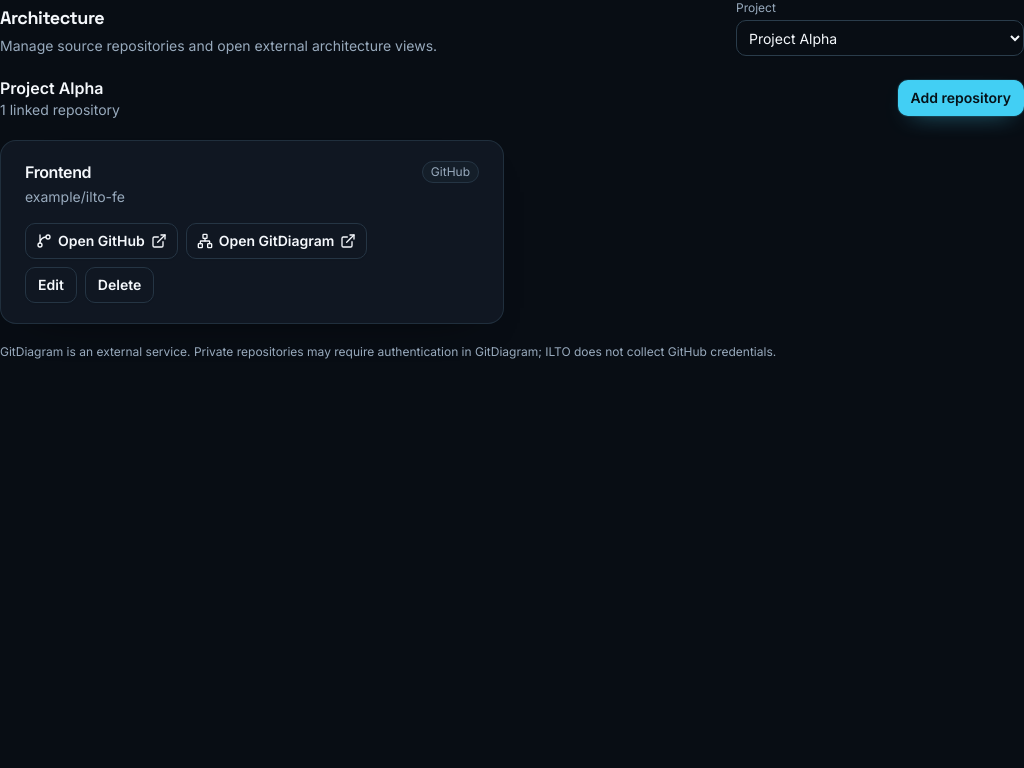
Test: Projects Architecture with a mocked backend › PATCHes only changed writable fields and refetches after confirmation
Expected: the text "example/ilto-fe" is shown, [25,188,125,205]
Step 1. Click the button with aria-label "Edit repository: Frontend" → (51, 285), box [25,267,77,303]
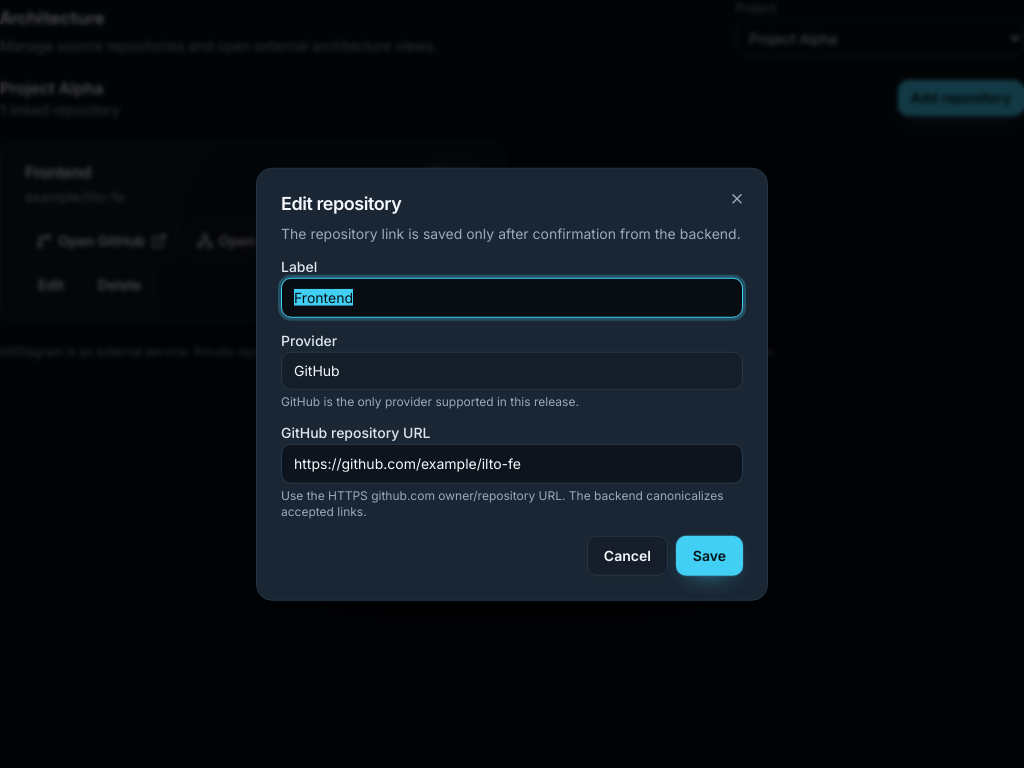
Step 2. Type "Web application" into the field labelled "Label" → (512, 297), box [281,277,743,317]
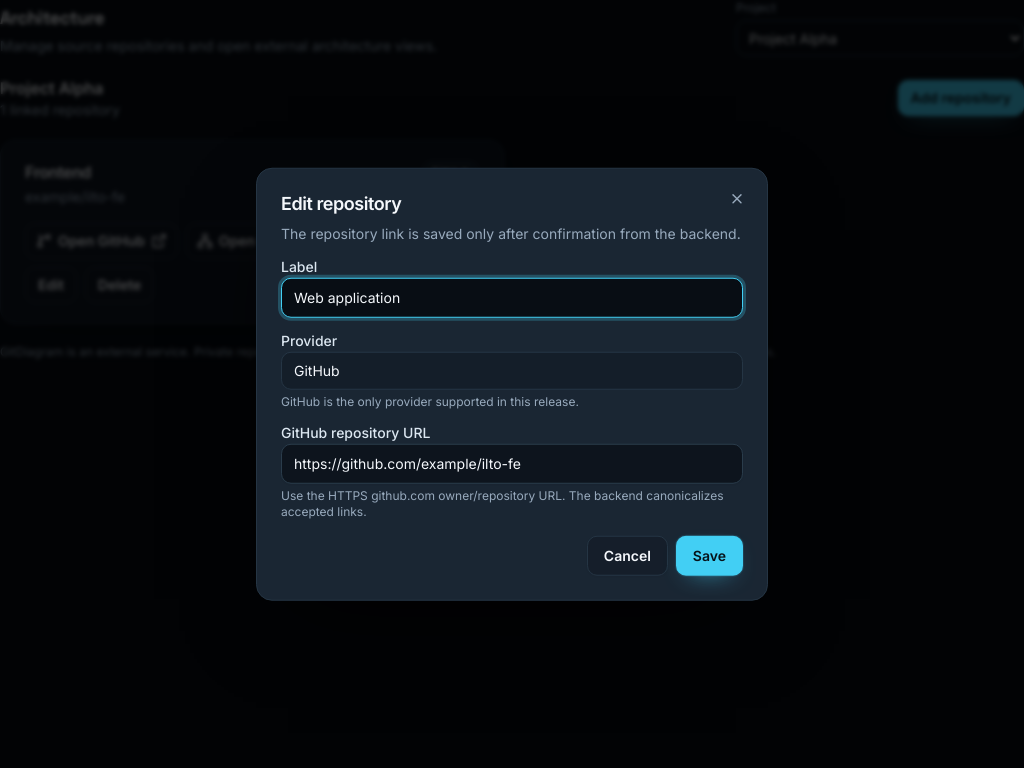
Step 3. Click the button "Save" → (709, 555), box [676,535,743,575]
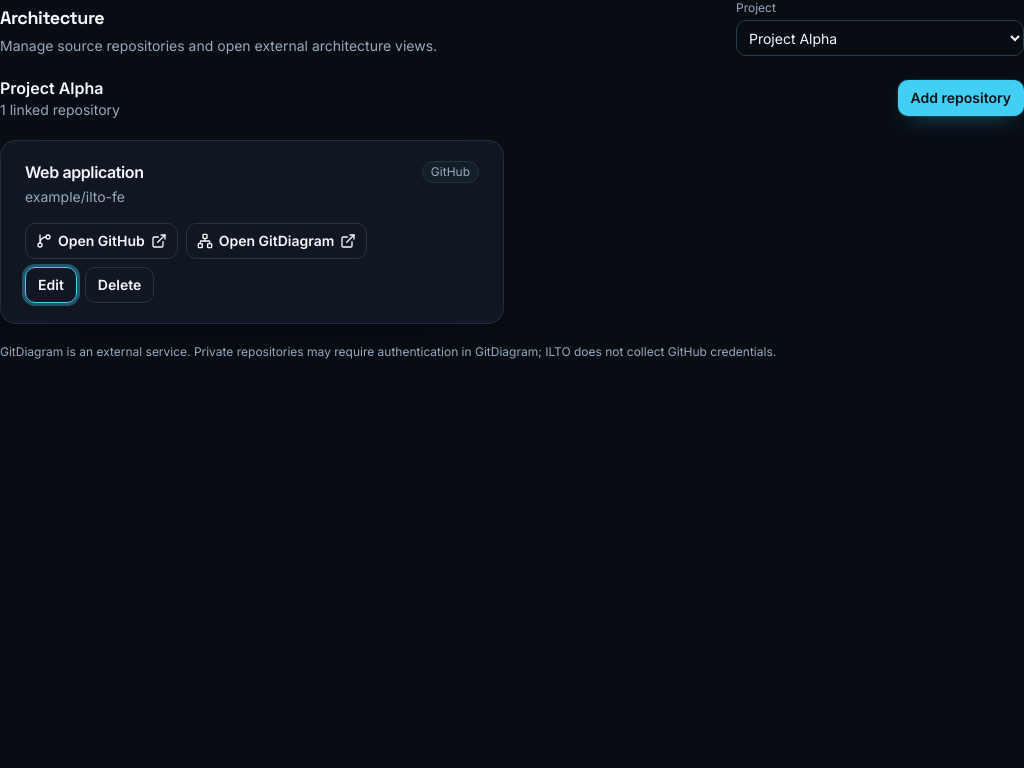
Now the text "Web application" is shown, box [25,162,144,182]
